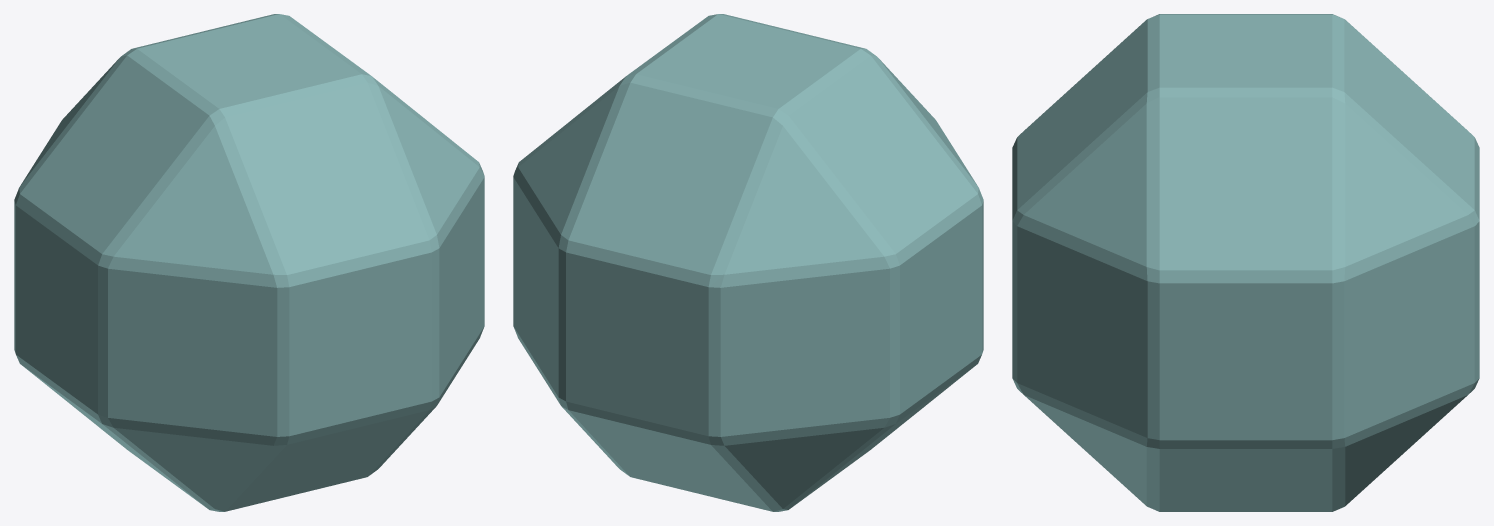
Rendered from FolkBrain.obj.
3 views of the same model, side by side, from view 1: azimuth 30°, elevation 25°; view 2: azimuth 150°, elevation 25°; view 3: azimuth 270°, elevation 25° (orthographic). The views are drawn at different scales.
Parts seen in each view (by area): view 1: Cube; view 2: Cube; view 3: Cube.
Boxes of the visible parts, x1,y1,x2,y2 form: Cube: [14, 14, 484, 511]; Cube: [513, 14, 983, 511]; Cube: [1012, 14, 1479, 511].
Size of the model in its own units: 1.43 by 1.43 by 1.43.
